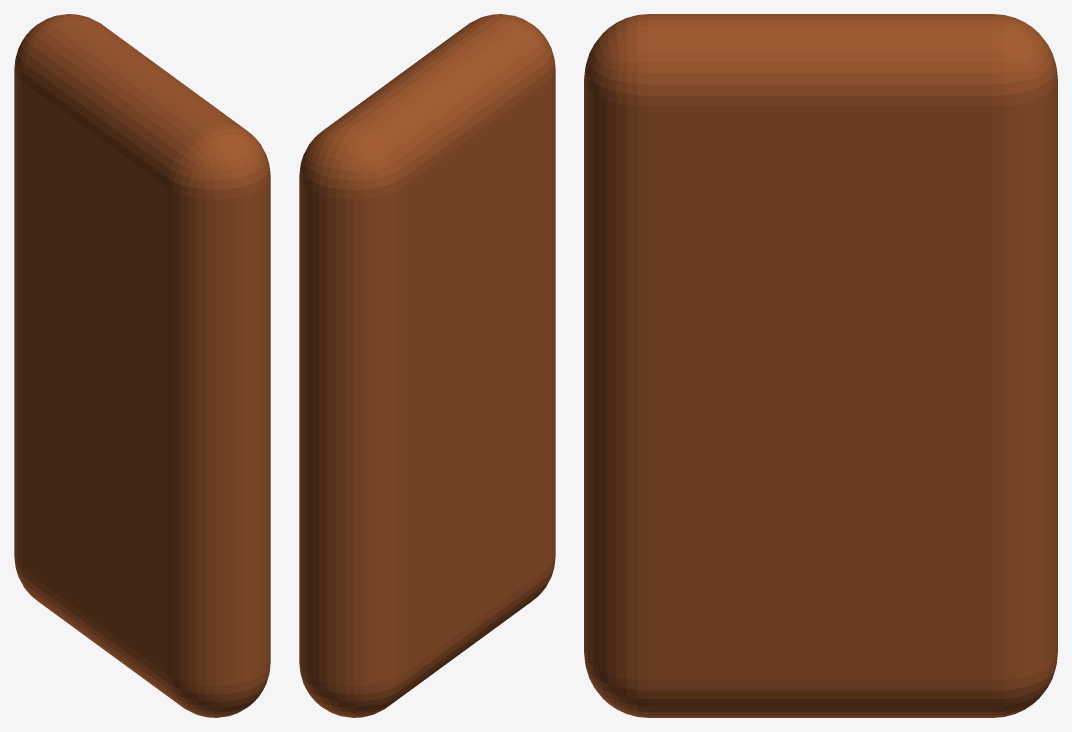
Rendered from gingerbread_door.fbx.
The picture shows the model from 3 angles, left to right: view 1: azimuth 30°, elevation 25°; view 2: azimuth 150°, elevation 25°; view 3: azimuth 270°, elevation 25°; orthographic projection. The views are drawn at different scales.
Parts seen in each view (by area): view 1: Cube; view 2: Cube; view 3: Cube.
Boxes of the visible parts, x1,y1,x2,y2 form: Cube: (14,14,270,717); Cube: (299,14,555,717); Cube: (584,14,1057,717).
Size of the model in its own units: 13.51 by 79 by 49.
